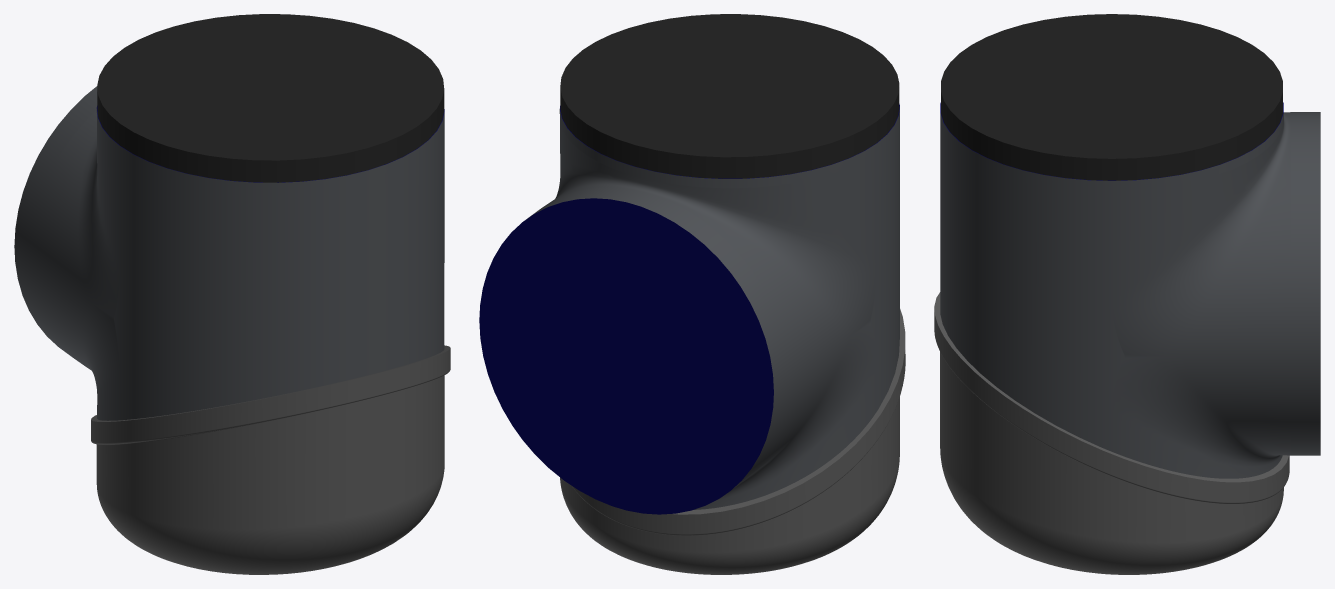
Rendered from Wrist2.obj.
3 views of the same model, side by side, from view 1: azimuth 30°, elevation 25°; view 2: azimuth 150°, elevation 25°; view 3: azimuth 270°, elevation 25° (orthographic). The views are drawn at different scales.
Visible parts, largest first — view 1: Actor0, Actor1; view 2: Actor0, Actor1; view 3: Actor0, Actor1.
Boxes of the visible parts, box(x1,y1,x2,y2) form: Actor0: box(14, 14, 444, 420); Actor1: box(91, 345, 450, 574); Actor0: box(479, 14, 899, 514); Actor1: box(560, 309, 905, 574); Actor0: box(940, 14, 1320, 478); Actor1: box(934, 292, 1289, 574).
Bounding box in the file's own units: 0.0775 × 0.1047 × 0.0842.
